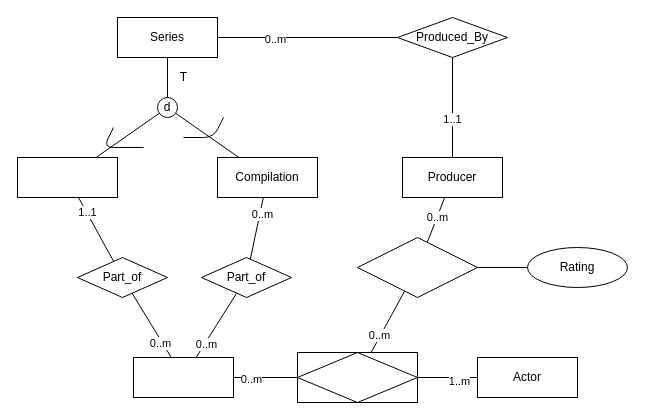
The diagram is 645 pixels wide and 420 high, and some of its shapes have lost their labels. The shapes that lost their labels are listed below. From the top down, each one's box as (x1, y1, x2, y2) in pixels, then its label:
(16, 156, 118, 198): Original
(356, 236, 478, 298): Rate
(132, 356, 234, 398): Episode
(296, 352, 418, 402): Acts_in
